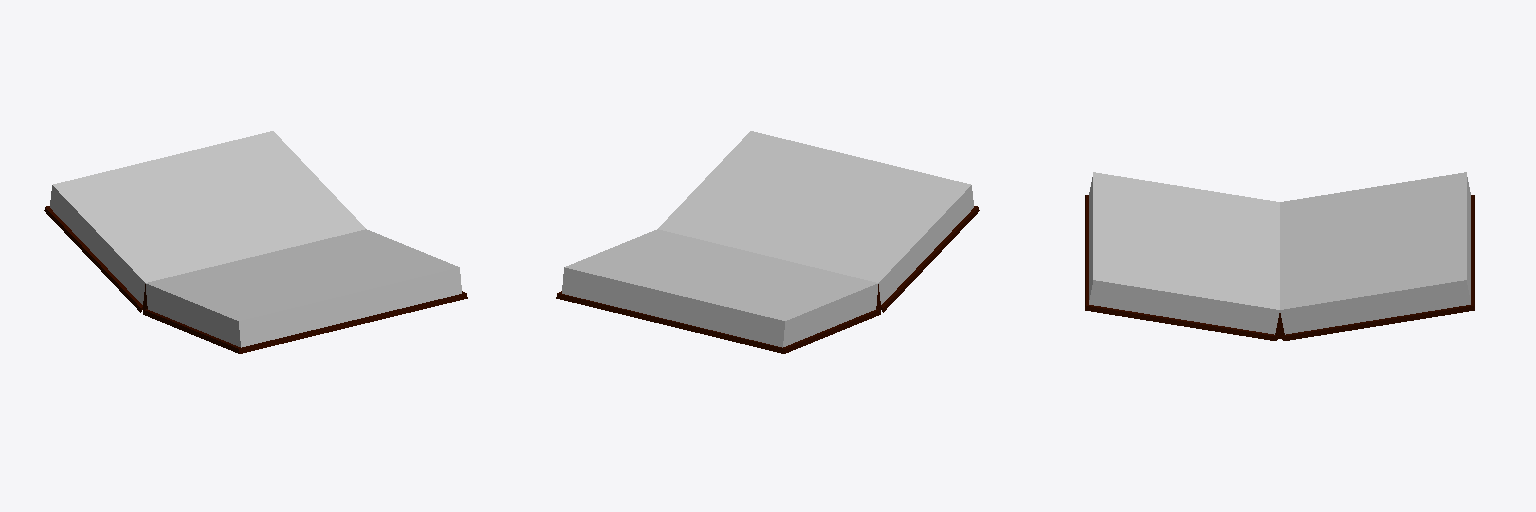
File: book_placeholder.obj
3 views of the same model, side by side, from view 1: azimuth 30°, elevation 25°; view 2: azimuth 150°, elevation 25°; view 3: azimuth 270°, elevation 25° (orthographic).
Parts seen in each view (by area): view 1: Cube; view 2: Cube; view 3: Cube.
Part boxes in pixels (left/top/right/bottom): Cube: left=44, top=131, right=467, bottom=353; Cube: left=556, top=131, right=979, bottom=353; Cube: left=1085, top=172, right=1474, bottom=340.
Size of the model in its own units: 16.54 by 4.15 by 24.54.